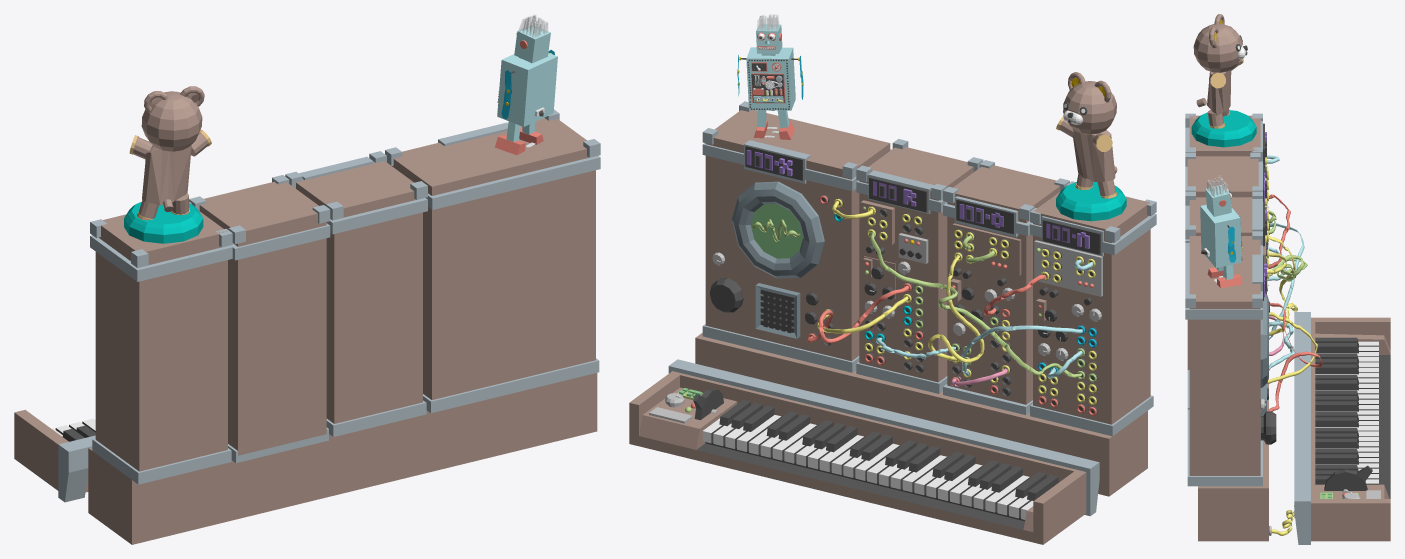
The model's file is synth.glb.
The picture shows the model from 3 angles, left to right: view 1: azimuth 30°, elevation 25°; view 2: azimuth 150°, elevation 25°; view 3: azimuth 270°, elevation 25°; orthographic projection. The views are drawn at different scales.
Visible parts, largest first — view 1: model; view 2: model; view 3: model.
Boxes of the visible parts, bbox=[...] form: model: bbox=[14, 14, 600, 544]; model: bbox=[629, 14, 1156, 544]; model: bbox=[1185, 14, 1390, 544].
Size of the model in its own units: 2.14 by 1.89 by 0.98.
